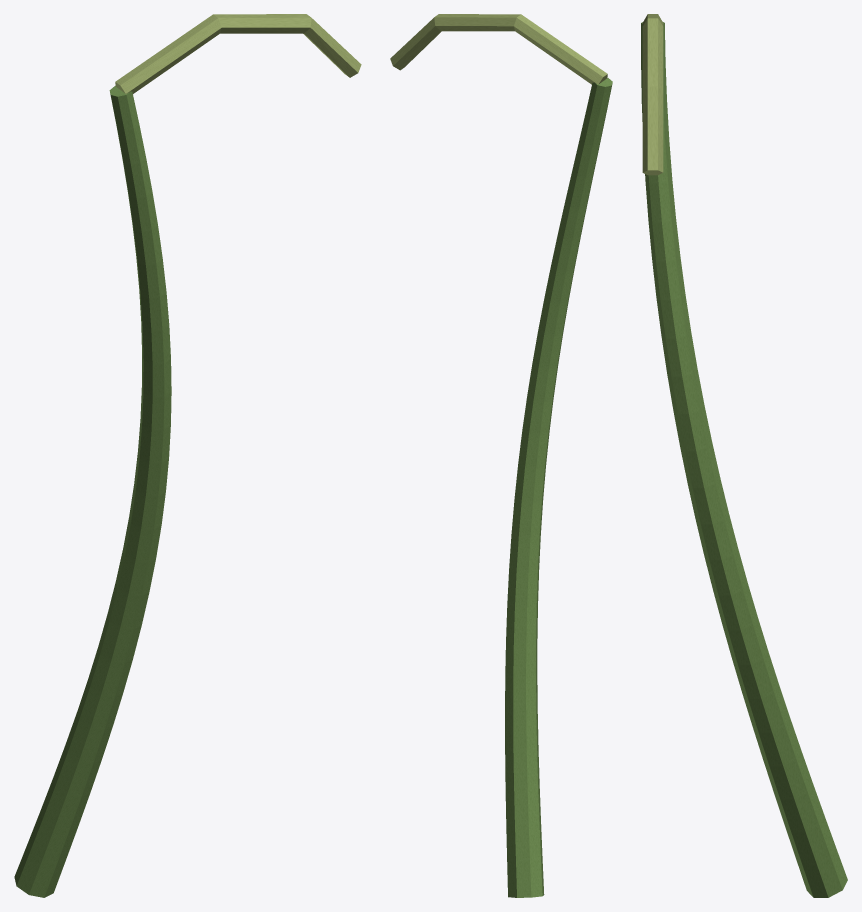
The model's file is birth_stem.obj.
The picture shows the model from 3 angles, left to right: view 1: azimuth 30°, elevation 25°; view 2: azimuth 150°, elevation 25°; view 3: azimuth 270°, elevation 25°; orthographic projection. The views are drawn at different scales.
Parts seen in each view (by area): view 1: birth_stem; view 2: birth_stem; view 3: birth_stem.
Part boxes in pixels (x1,y1,x2,y2): birth_stem: (14,14,361,897); birth_stem: (390,14,612,897); birth_stem: (641,14,847,897).
Size of the model in its own units: 3.75 by 12.8 by 2.61.
1 material, 1 textured.
